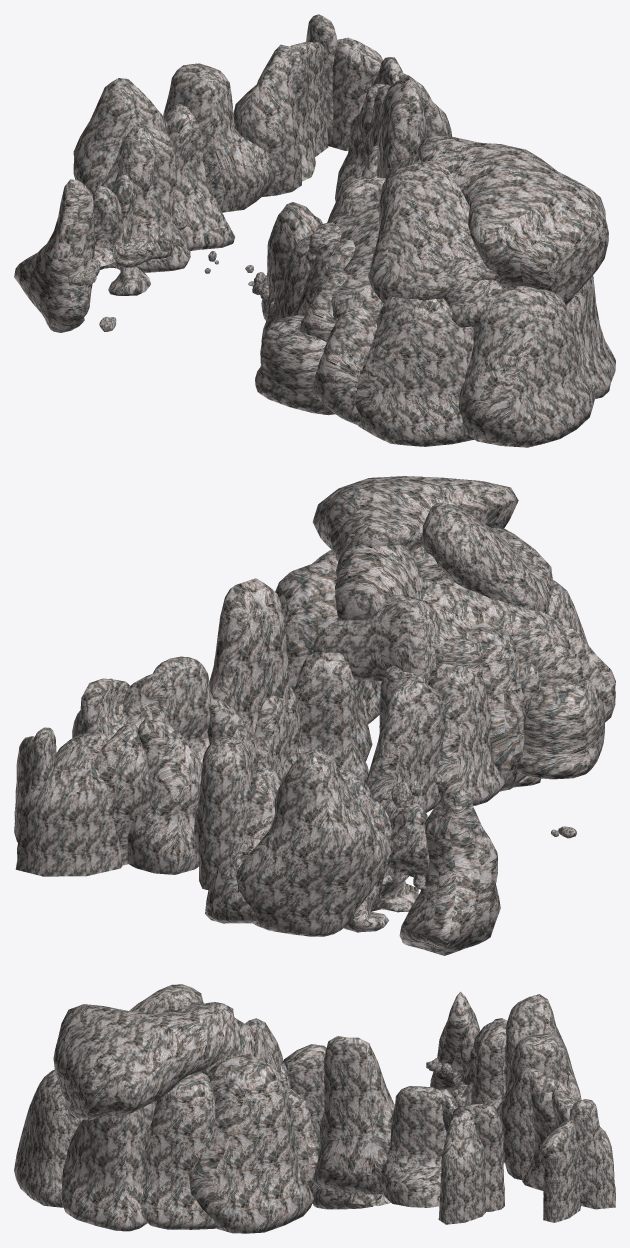
The model's file is MOUNTAINS_COMMON_WEALTH.glb.
The picture shows the model from 3 angles, top to bottom: view 1: azimuth 30°, elevation 25°; view 2: azimuth 150°, elevation 25°; view 3: azimuth 270°, elevation 25°; orthographic projection. The views are drawn at different scales.
Visible parts, largest first — view 1: LE_MOUNTAINS-COL; view 2: LE_MOUNTAINS-COL; view 3: LE_MOUNTAINS-COL.
Part boxes in pixels (<box>): LE_MOUNTAINS-COL: <box>14,14,615,447</box>; LE_MOUNTAINS-COL: <box>14,476,615,955</box>; LE_MOUNTAINS-COL: <box>14,984,615,1233</box>.
Bounding box in the file's own units: 4963 × 2779 × 7411.
1 material, 1 textured.
